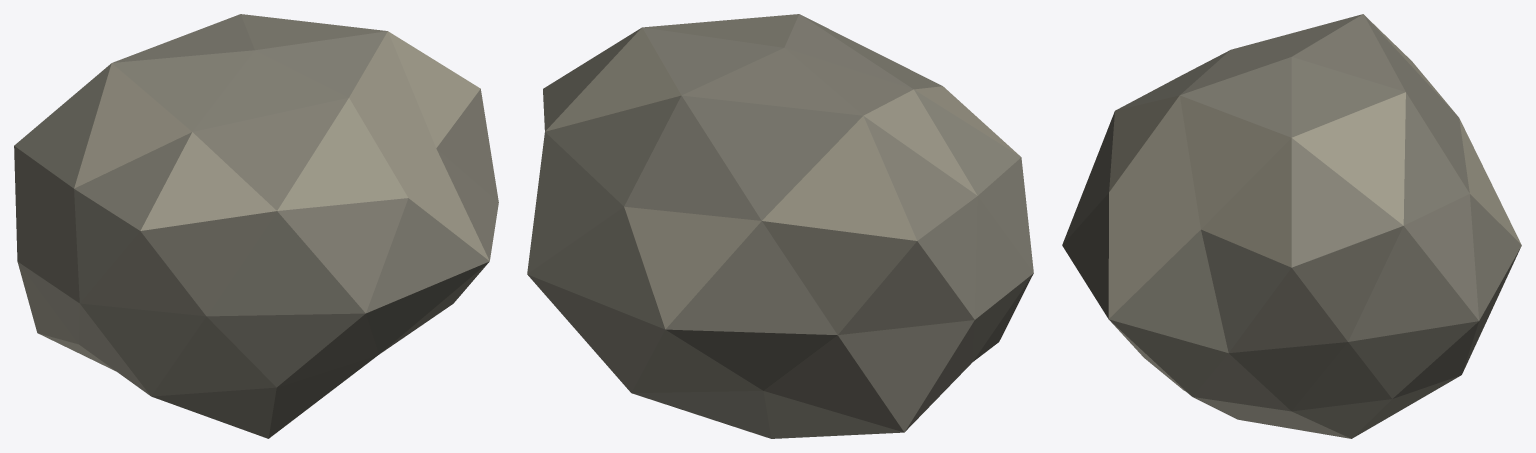
File: rock_boulder.glb
3 views of the same model, side by side, from view 1: azimuth 30°, elevation 25°; view 2: azimuth 150°, elevation 25°; view 3: azimuth 270°, elevation 25° (orthographic). The views are drawn at different scales.
Parts seen in each view (by area): view 1: rock_boulder; view 2: rock_boulder; view 3: rock_boulder.
Boxes of the visible parts, x1,y1,x2,y2 form: rock_boulder: [14, 14, 498, 438]; rock_boulder: [527, 14, 1033, 438]; rock_boulder: [1062, 14, 1521, 438].
Size of the model in its own units: 1.92 by 1.44 by 1.7.
